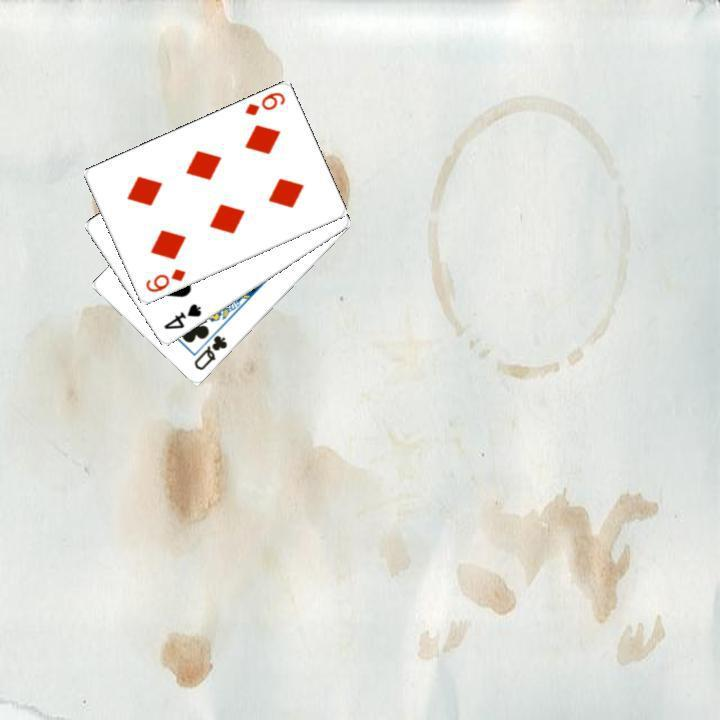4: (159, 300, 203, 332)
6: (141, 264, 187, 295), (240, 88, 287, 118)
Q: (189, 331, 229, 373)
